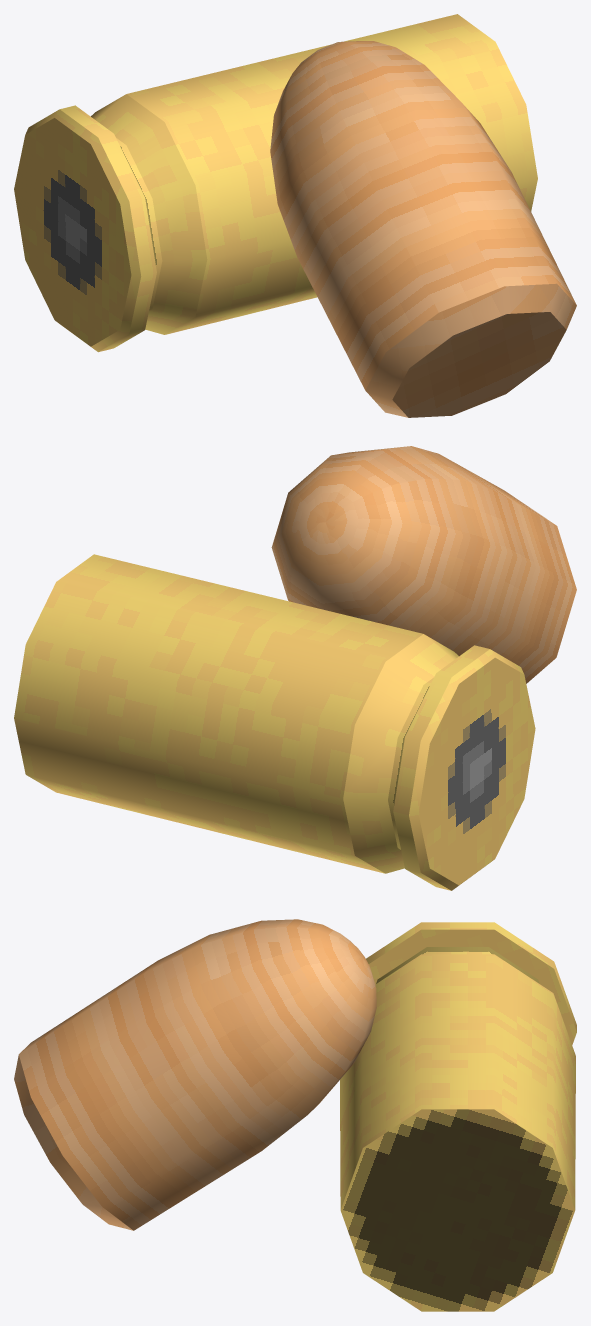
The model's file is ammomaker_PartsStraightM.fbx.
3 views of the same model, one above another, from view 1: azimuth 30°, elevation 25°; view 2: azimuth 150°, elevation 25°; view 3: azimuth 270°, elevation 25° (orthographic). The views are drawn at different scales.
Parts seen in each view (by area): view 1: ammomaker_PartsStraightM; view 2: ammomaker_PartsStraightM; view 3: ammomaker_PartsStraightM.
Part boxes in pixels (x1=…): ammomaker_PartsStraightM: x1=14, y1=14, x2=576, y2=417; ammomaker_PartsStraightM: x1=14, y1=446, x2=576, y2=890; ammomaker_PartsStraightM: x1=14, y1=919, x2=576, y2=1311.
Bounding box in the file's own units: 2.28 × 1.65 × 2.88.
